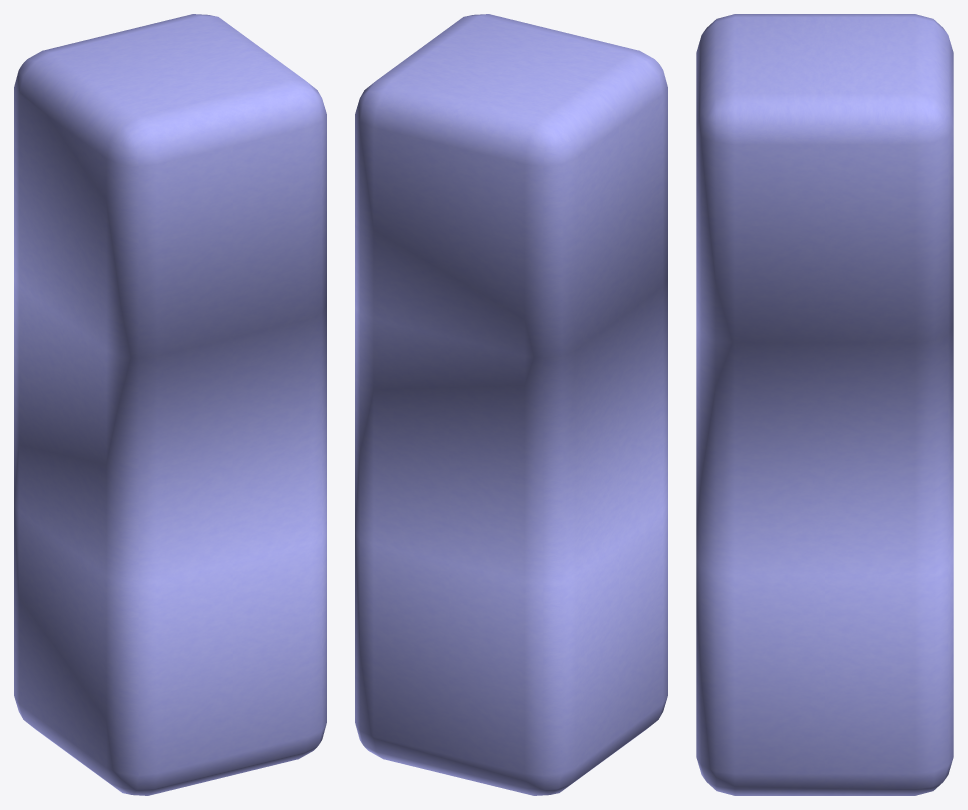
Rendered from __clay_block_07_31.obj.
3 renders of one model, left to right at view 1: azimuth 30°, elevation 25°; view 2: azimuth 150°, elevation 25°; view 3: azimuth 270°, elevation 25°, orthographic. The views are drawn at different scales.
Visible parts, largest first — view 1: clay_block_31; view 2: clay_block_31; view 3: clay_block_31.
Part boxes in pixels (box(x1,y1,x2,y2)): clay_block_31: box(14, 14, 326, 795); clay_block_31: box(355, 14, 667, 795); clay_block_31: box(696, 14, 953, 795).
Bounding box in the file's own units: 1 × 3 × 1.
Materials: 1 (1 with a texture image).
